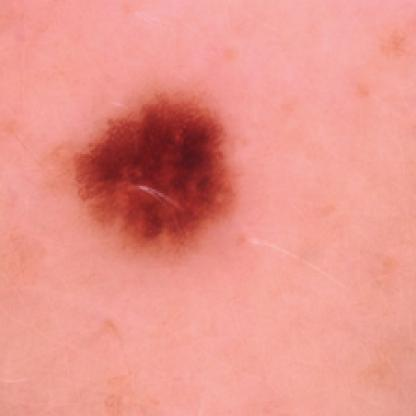benign: (67, 95, 245, 256)
